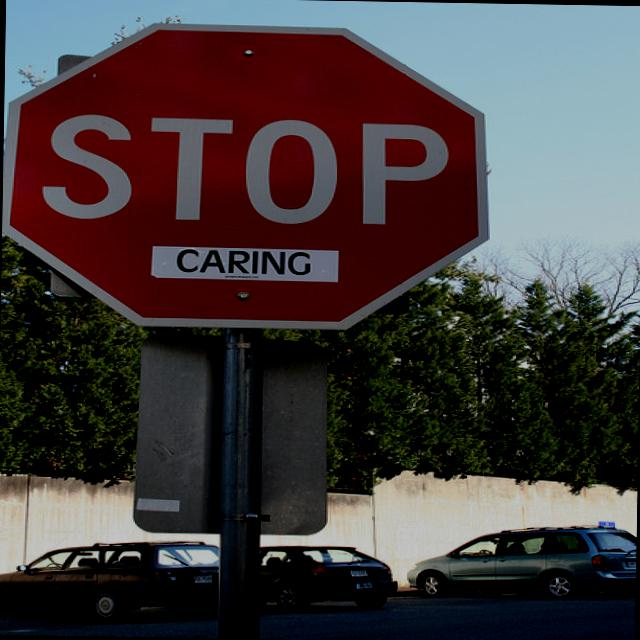Vehicle: (404, 522, 636, 600), (0, 538, 219, 620), (257, 544, 397, 610)
